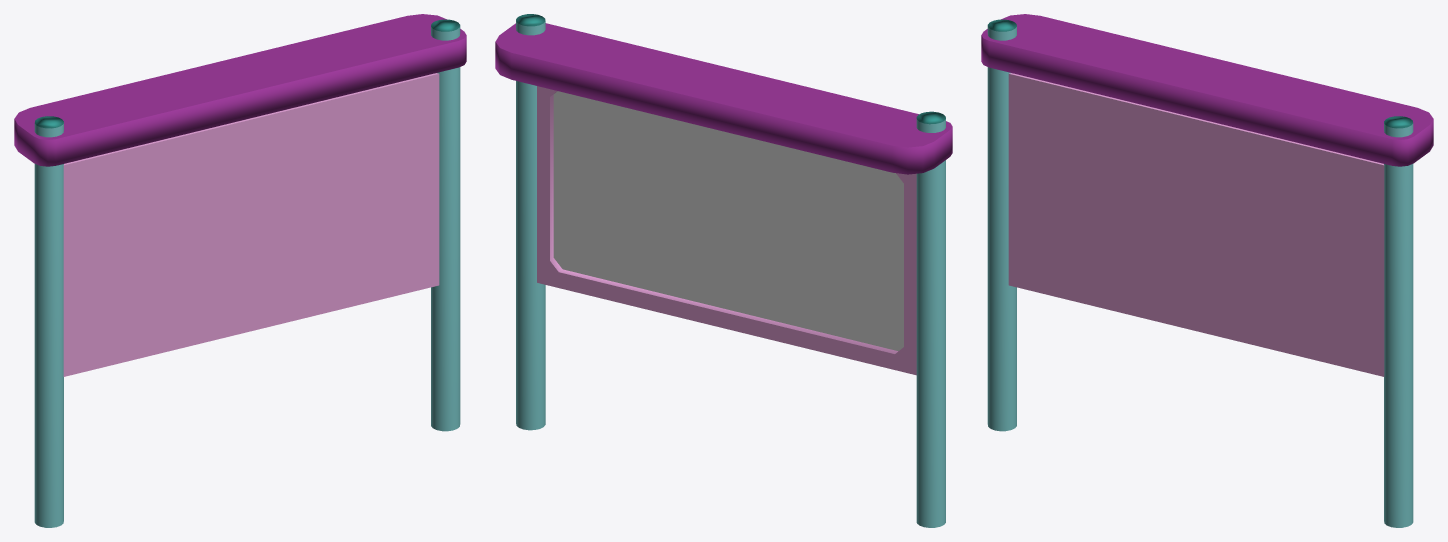
Rendered from ParkPlan.fbx.
The picture shows the model from 3 angles, left to right: view 1: azimuth 30°, elevation 25°; view 2: azimuth 150°, elevation 25°; view 3: azimuth 330°, elevation 25°; orthographic projection.
Parts seen in each view (by area): view 1: ParkPlan, ParkPlanLamp, ParkPlanSupport; view 2: ParkPlan, ParkPlanLamp, ParkPlanSupport; view 3: ParkPlan, ParkPlanLamp, ParkPlanSupport.
Part boxes in pixels (x1=…): ParkPlan: x1=63, y1=73, x2=439, y2=376; ParkPlanLamp: x1=14, y1=14, x2=466, y2=166; ParkPlanSupport: x1=34, y1=19, x2=460, y2=527; ParkPlan: x1=537, y1=86, x2=916, y2=375; ParkPlanLamp: x1=495, y1=23, x2=952, y2=174; ParkPlanSupport: x1=516, y1=14, x2=945, y2=527; ParkPlan: x1=1008, y1=73, x2=1384, y2=376; ParkPlanLamp: x1=981, y1=14, x2=1433, y2=166; ParkPlanSupport: x1=987, y1=19, x2=1413, y2=527.
Size of the model in its own units: 33.72 by 5.23 by 29.91.
